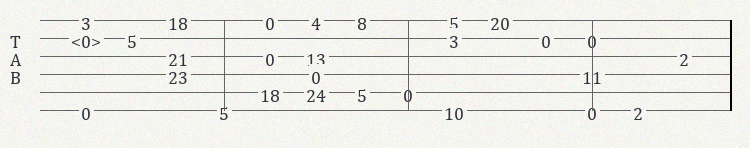0: (81, 102, 95, 118), (265, 48, 279, 64), (265, 12, 279, 28), (311, 66, 325, 82), (403, 84, 417, 100), (541, 30, 555, 46), (587, 102, 601, 118), (587, 30, 601, 46)
10: (444, 102, 468, 118)
11: (582, 66, 606, 82)
13: (306, 48, 330, 64)
18: (168, 12, 192, 28), (260, 84, 284, 100)
2: (633, 102, 647, 118), (679, 48, 693, 64)
20: (490, 12, 514, 28)
21: (168, 48, 192, 64)
23: (168, 66, 192, 82)
24: (306, 84, 330, 100)
3: (81, 12, 95, 28), (449, 30, 463, 46)
4: (311, 12, 325, 28)
5: (127, 30, 141, 47), (219, 102, 233, 119), (357, 84, 371, 101), (449, 12, 463, 29)
8: (357, 12, 371, 28)
harmonic: (71, 30, 105, 46)
